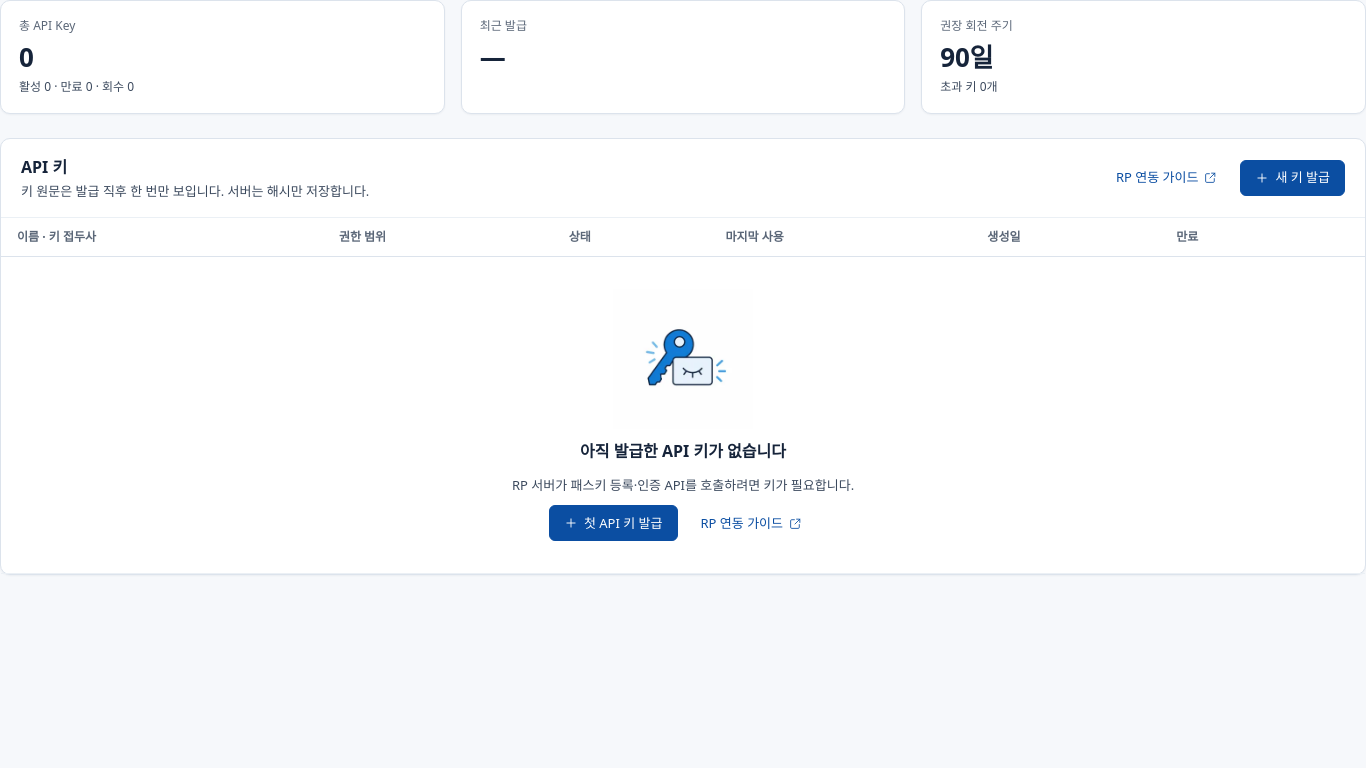
ApiKeysTab V2 › 발급 완료 다이얼로그: Escape·스크림 무시, 체크 전 닫기 비활성
This screenshot has width=1366, height=768.
Step 1. Click the button "새 키 발급" → (1293, 178), box [1240,160,1345,196]
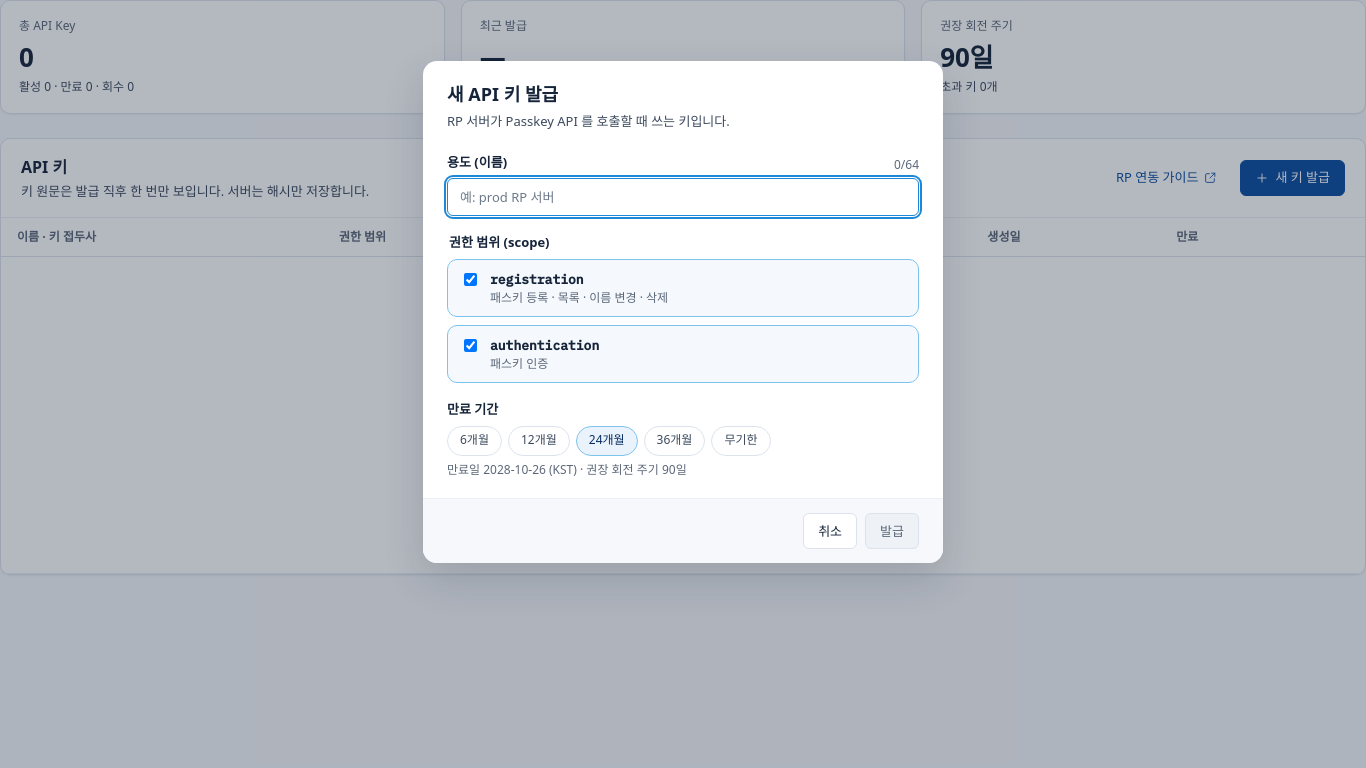
Step 2. Type "staging" into the field labelled "용도 (이름)" → (683, 197), box [447,178,919,216]
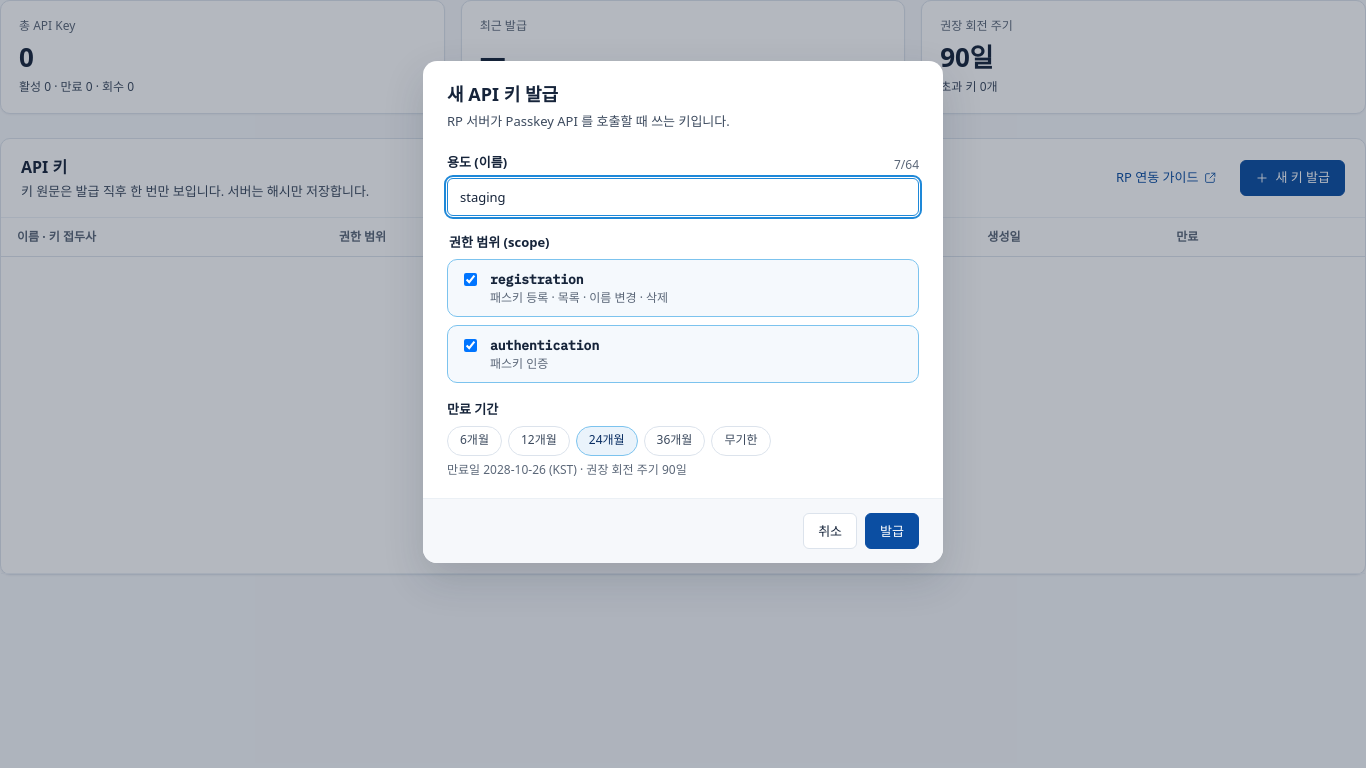
Step 3. Click the button "발급" → (892, 531), box [865,513,919,549]
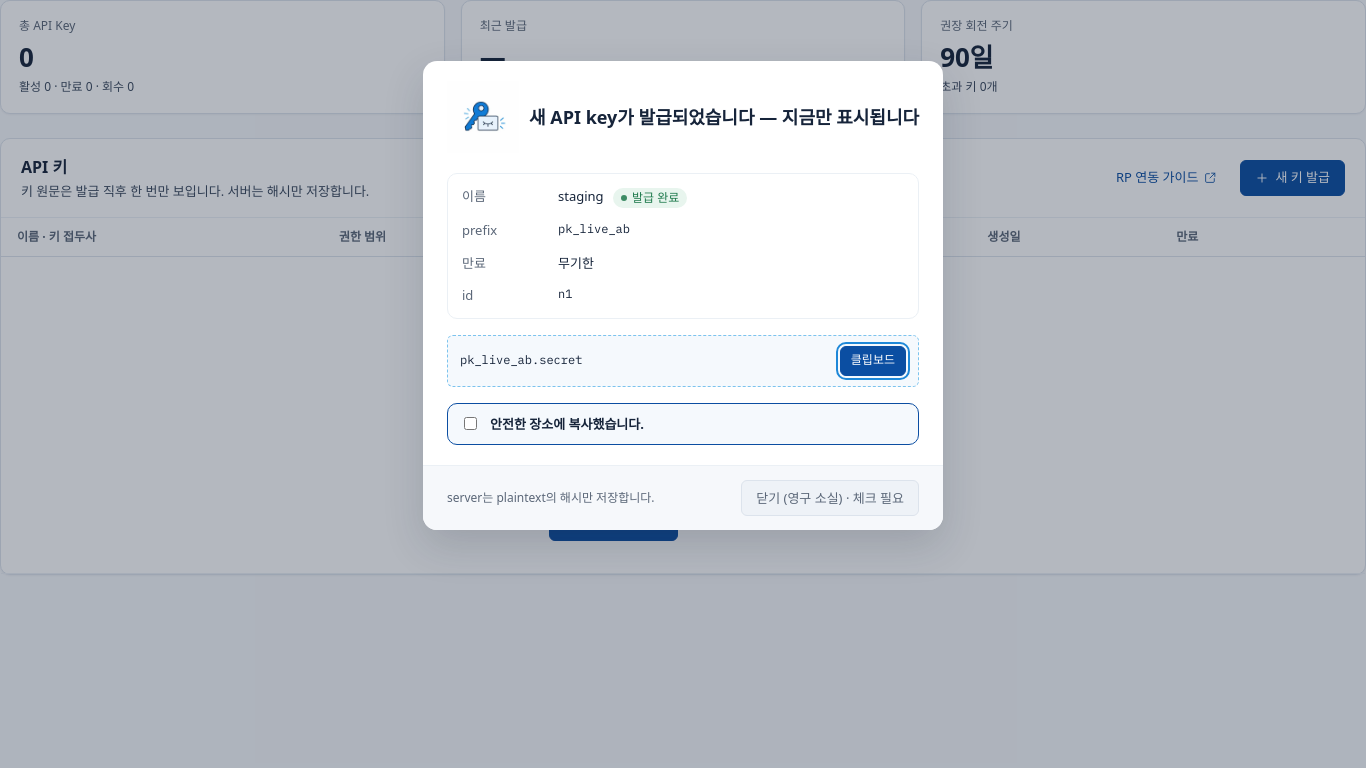
Check: the text "pk_live_ab.secret" is shown, box [460,352,582,367]
Check: the button "닫기 (영구 소실) · 체크 필요" is disabled, box [741,480,919,516]
Step 4. Press Escape
Step 5. Press the mouse on the element that starts with "새 API key가 발급되었습니다 — 지금만 표시됩니다" → (683, 384), box [0,0,1365,767]
Check: the dialog "새 API key가 발급되었습니다" is shown, box [423,61,943,530]
Step 6. Click the checkbox labelled "안전한 장소에 복사했습니다." → (470, 424), box [464,417,477,430]
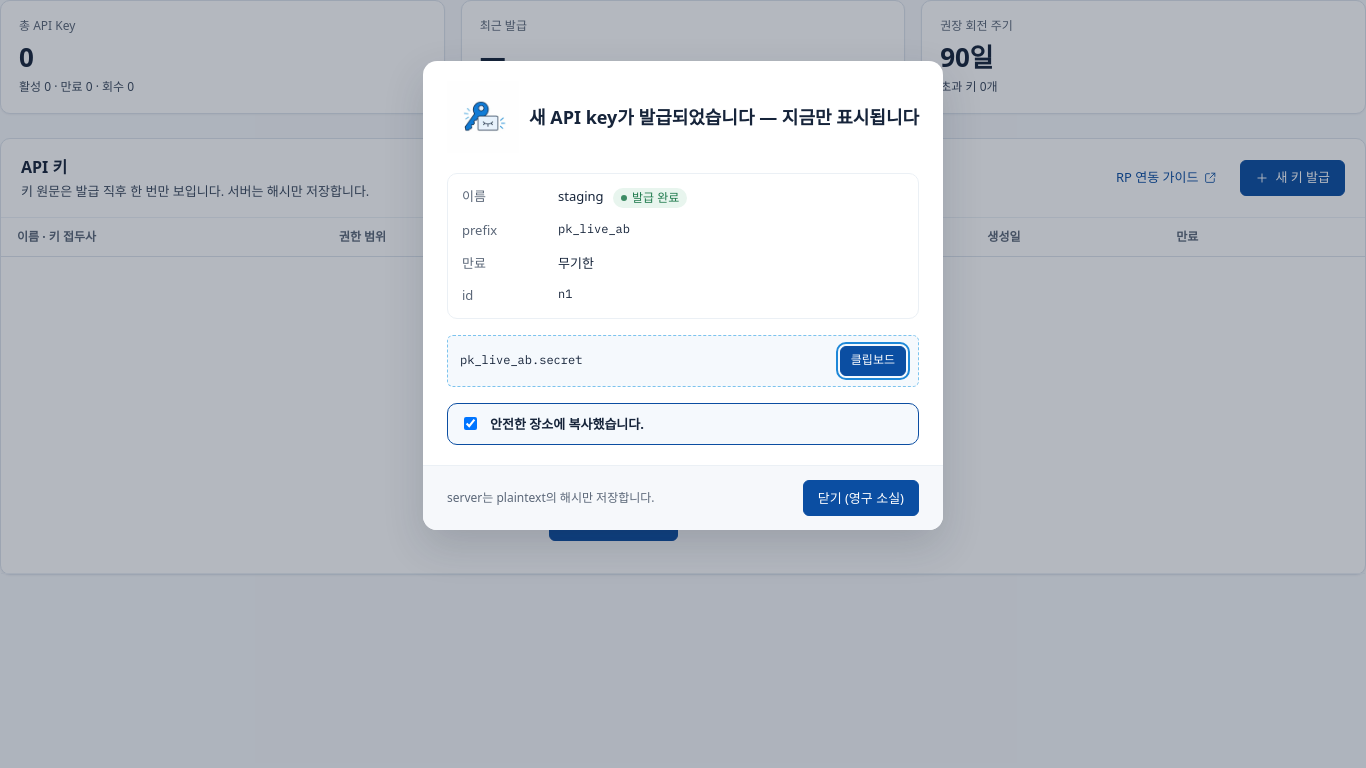
Check: the button "닫기 (영구 소실)" is enabled
Check: the button "닫기 (영구 소실)" is shown
Step 7. Click the button "닫기 (영구 소실)" → (861, 498), box [803,480,919,516]
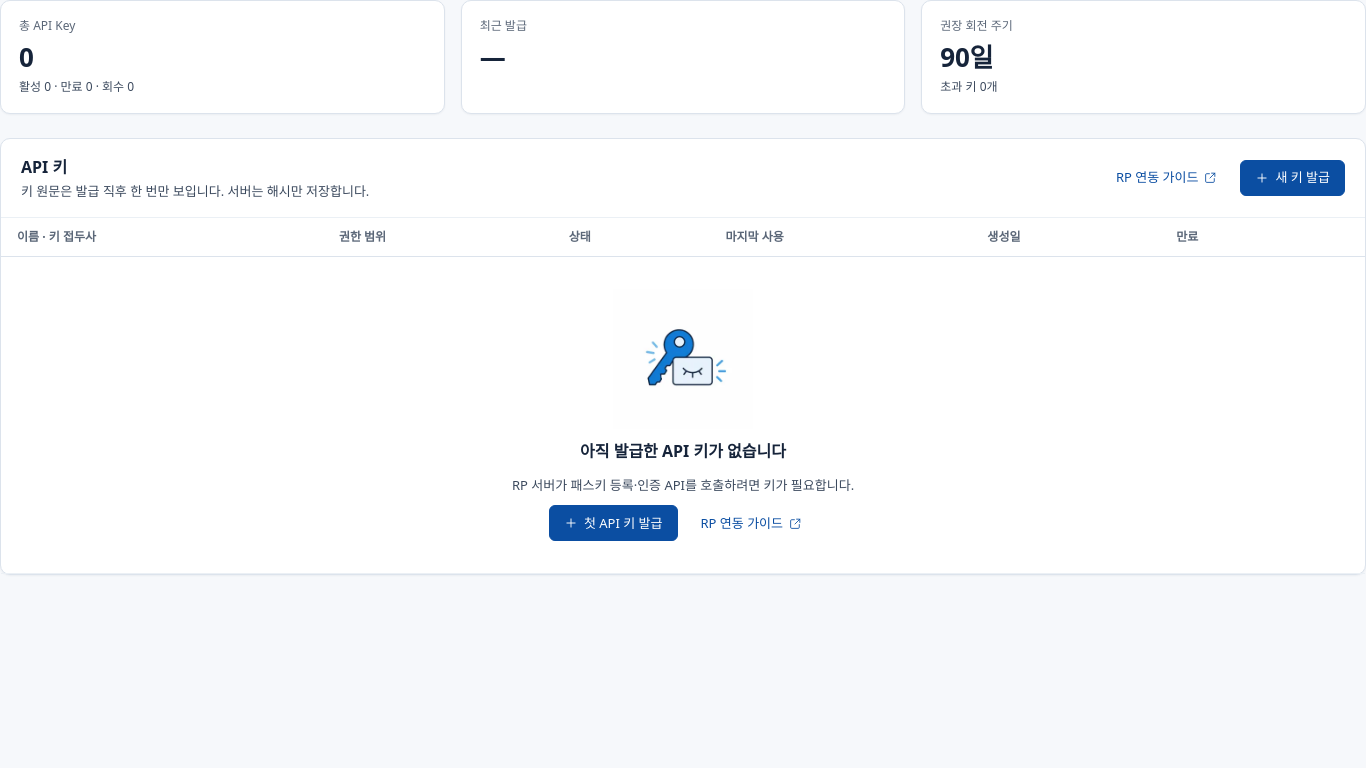
Check: the dialog is gone
